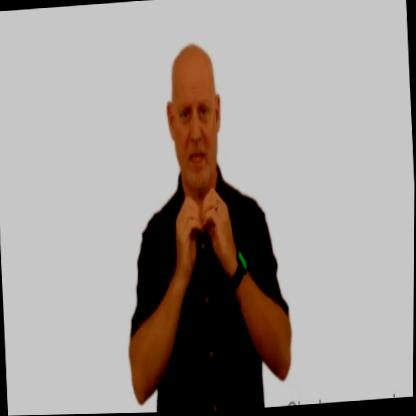Fix: (161, 165, 245, 307)
